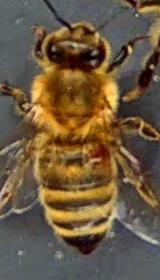varroa_mite: (80, 136, 112, 166)
